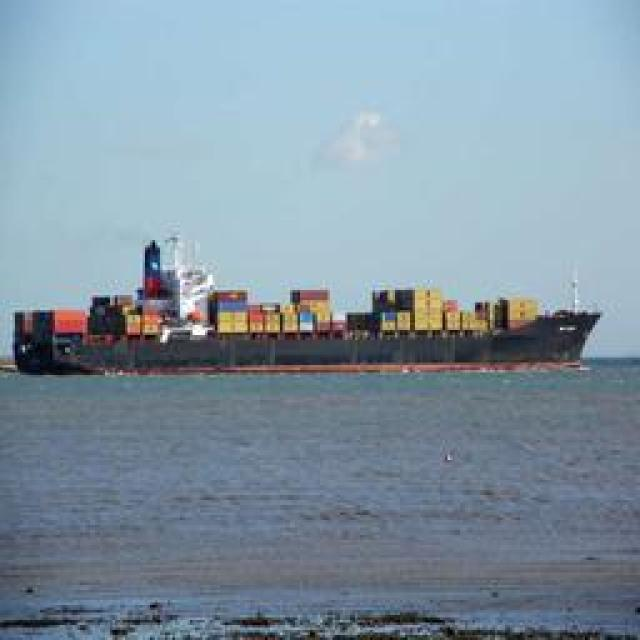ship2: (12, 233, 604, 377)
